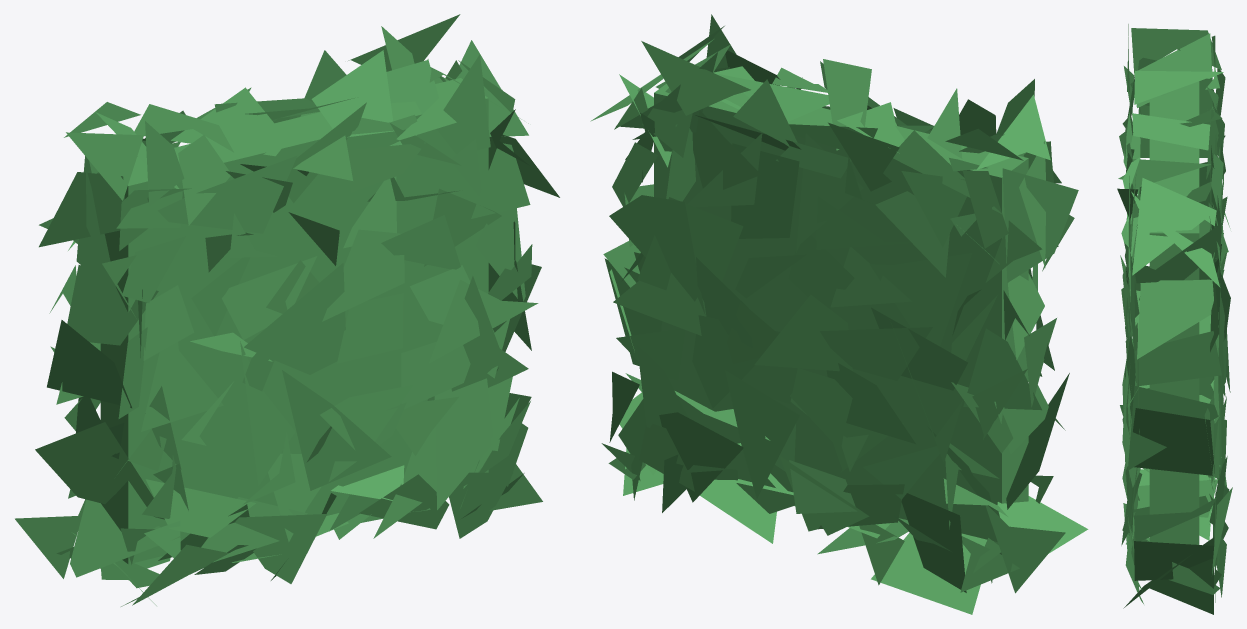
Rendered from hedgejoined.fbx.
3 views of the same model, side by side, from view 1: azimuth 30°, elevation 25°; view 2: azimuth 150°, elevation 25°; view 3: azimuth 270°, elevation 25° (orthographic). The views are drawn at different scales.
Visible parts, largest first — view 1: Cube.008; view 2: Cube.008; view 3: Cube.008.
Boxes of the visible parts, x1=… form: Cube.008: x1=15, y1=14, x2=559, y2=606; Cube.008: x1=590, y1=14, x2=1088, y2=614; Cube.008: x1=1117, y1=24, x2=1232, y2=614.
Bounding box in the file's own units: 386 × 387 × 86.82.
